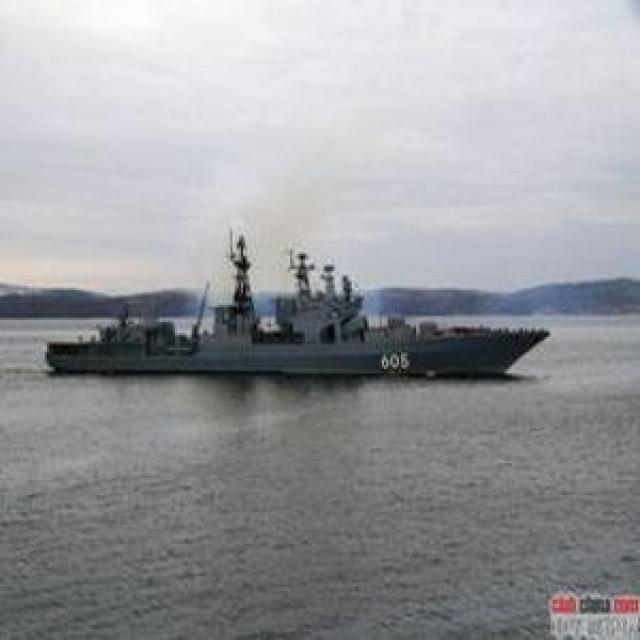navalvessels: (41, 225, 550, 380)
